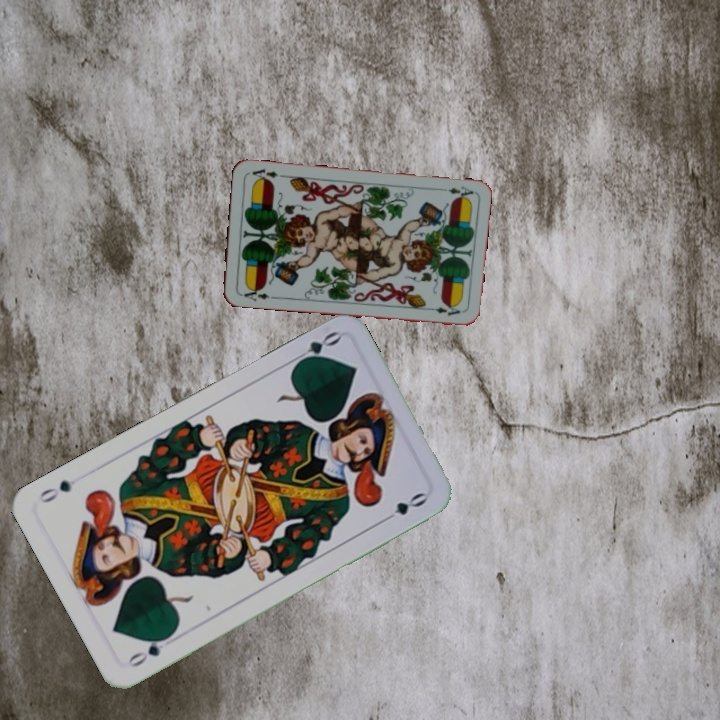EA: (435, 182, 476, 201), (240, 283, 277, 304)
GO: (287, 327, 343, 369), (123, 630, 175, 670)
